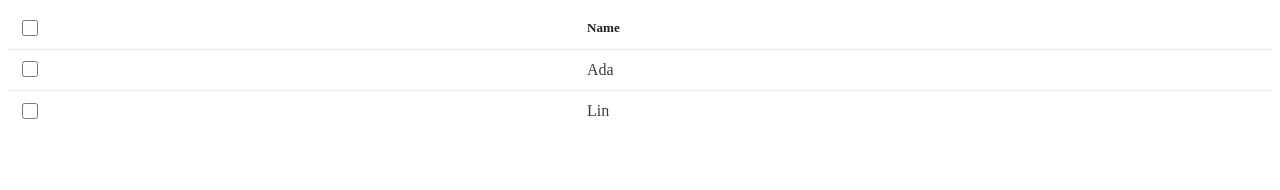
Test case: BrightrailTableComponent bulk selection bar › shows leading select-all checkbox next to count when rows are selected
What coordinates should you click on to do the following:
click the cell "Ada"
I would click on:
 (600, 69)
Its box is [577,49,1272,91].
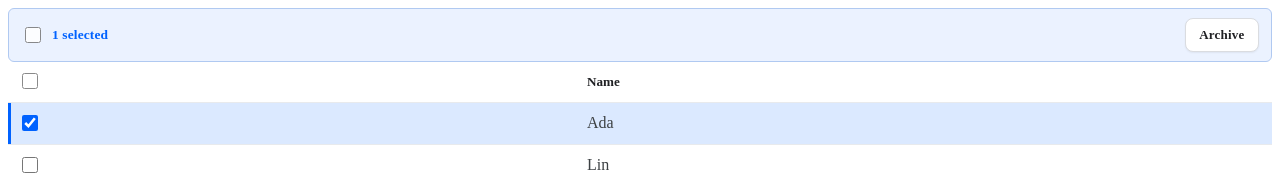
Expected: the element with class "br-table__bulk" is shown, [8,8,1272,62]
Expected: the checkbox with class "br-table__bulk-checkbox" is shown, [25,27,41,43]
Expected: the element with class "br-table__bulk" shows "selected", [52,27,108,42]
